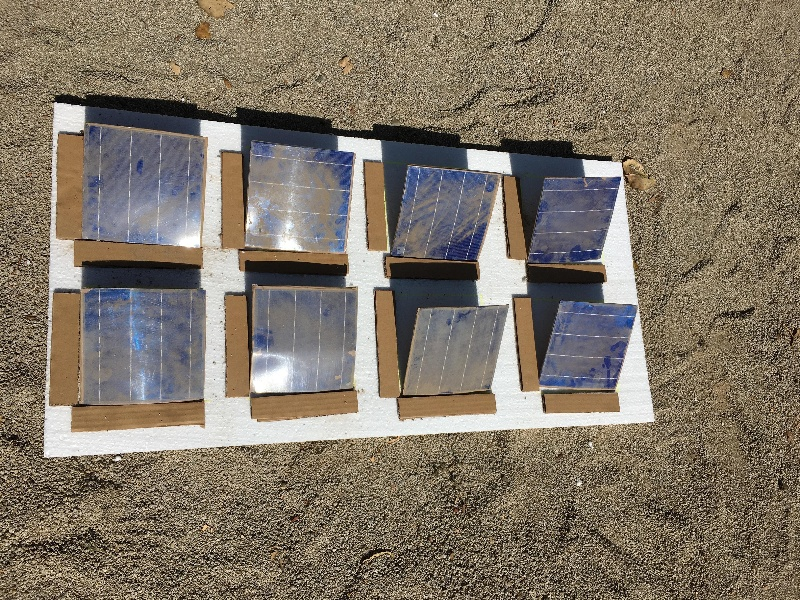dirty: (83, 286, 210, 405), (83, 121, 203, 246), (255, 288, 358, 393), (249, 145, 348, 252), (394, 166, 499, 264), (400, 311, 510, 393), (532, 176, 621, 268), (546, 302, 634, 389)
